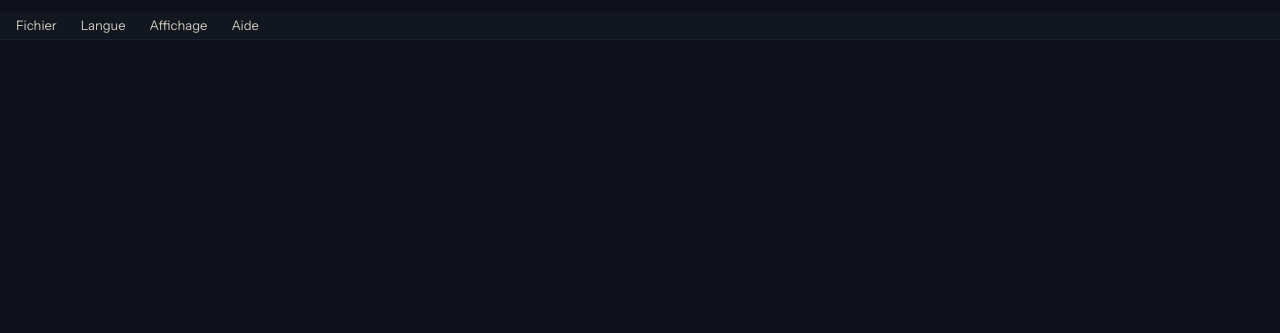
Test: MenuBar › opens a flat dropdown (no border, no rounded corners) and closes on Escape
Click the menu item "Langue" at {"x": 103, "y": 26}, box [69,12,138,40]
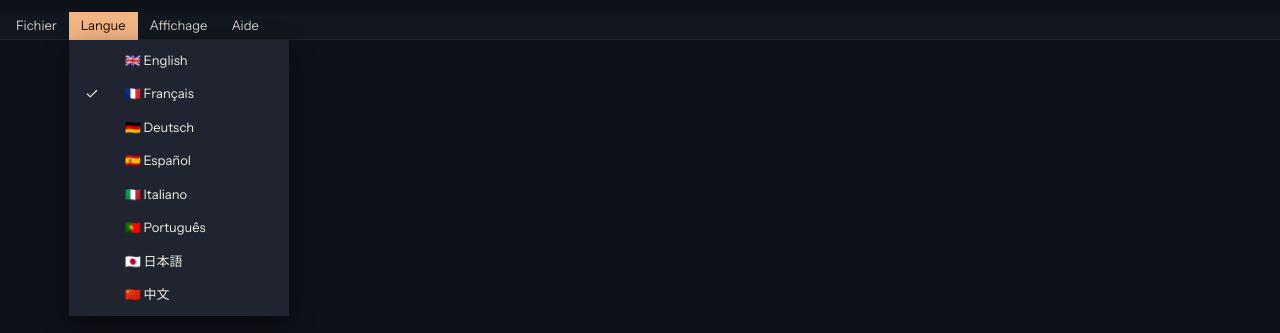
Press Escape
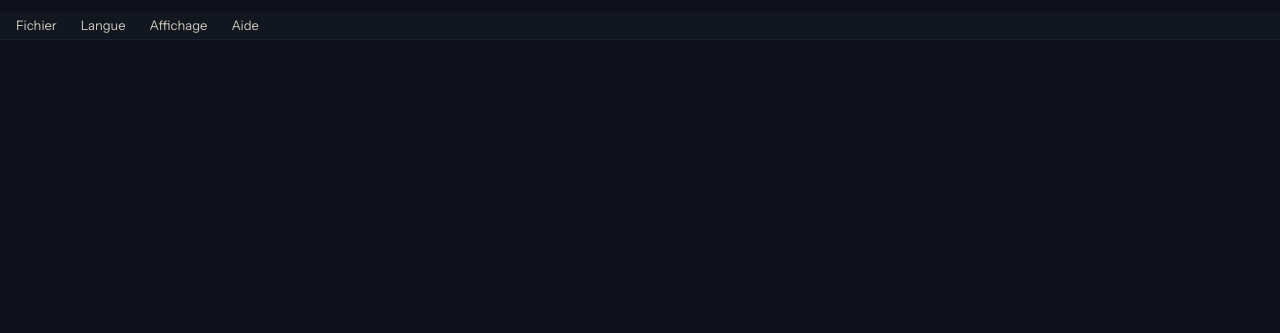
Expected: the menu is gone
